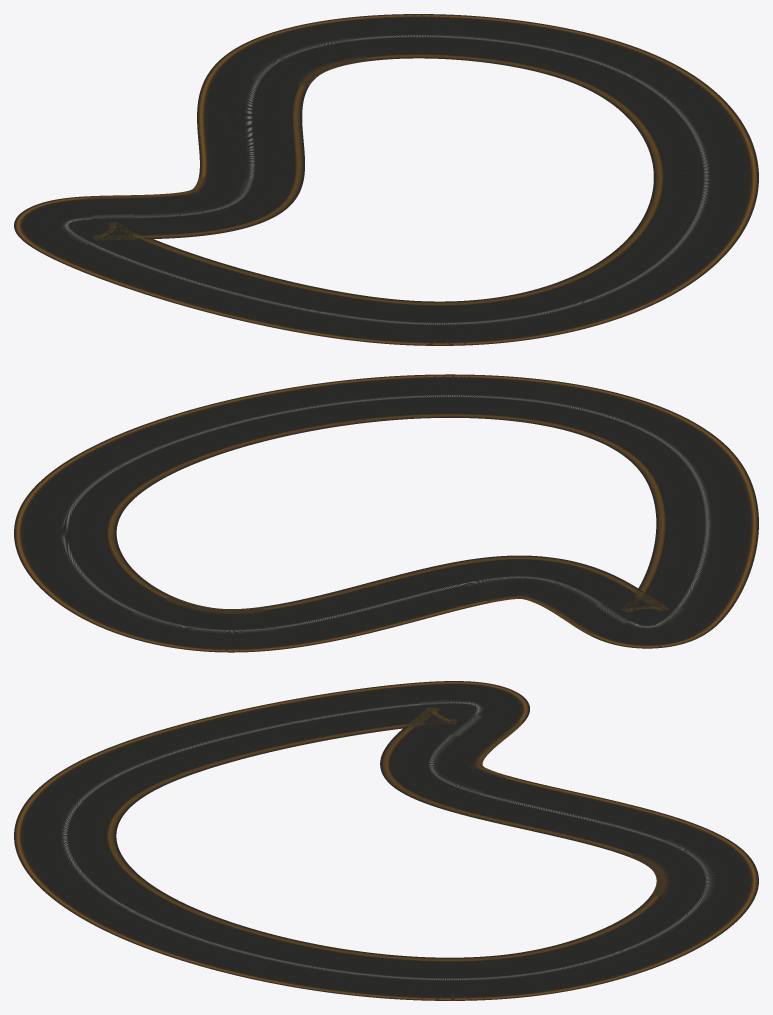
The picture shows the model from 3 angles, top to bottom: view 1: azimuth 30°, elevation 25°; view 2: azimuth 150°, elevation 25°; view 3: azimuth 270°, elevation 25°; orthographic projection. The views are drawn at different scales.
Parts seen in each view (by area): view 1: road; view 2: road; view 3: road.
Part boxes in pixels (<box>): road: <box>14,14,758,345</box>; road: <box>14,374,758,652</box>; road: <box>14,681,758,1000</box>.
Bounding box in the file's own units: 1.33 × 0 × 1.31.
1 material, 1 textured.
